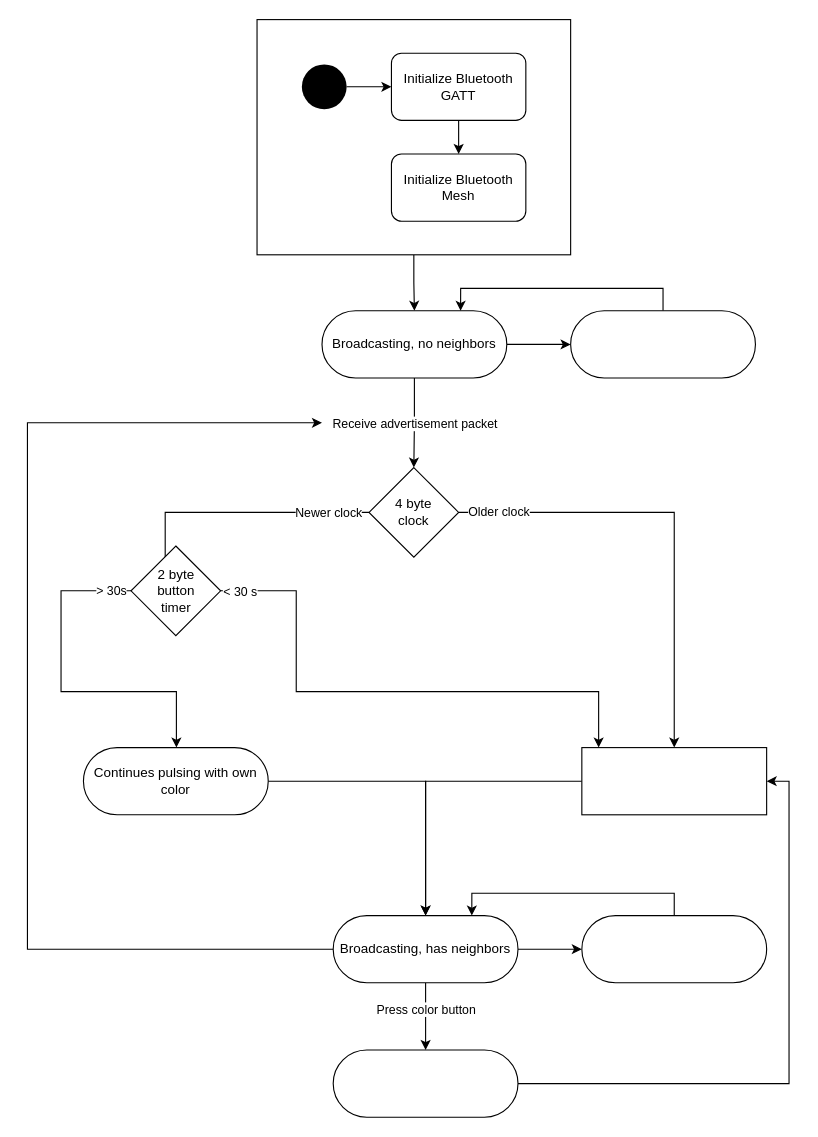
This 818x1137 diagram has some shape labels left out. The shapes that lost their labels are listed below. From the top down, each one's centre as x and y in pixels, then its label:
At (662,344): "Steady color, no pulsation".
At (674,780): "Transition to new color and phase over 2 sec".
At (674,948): "Pulsing color".
At (425,1083): "Set clock timer to 0, broadcast new color".
